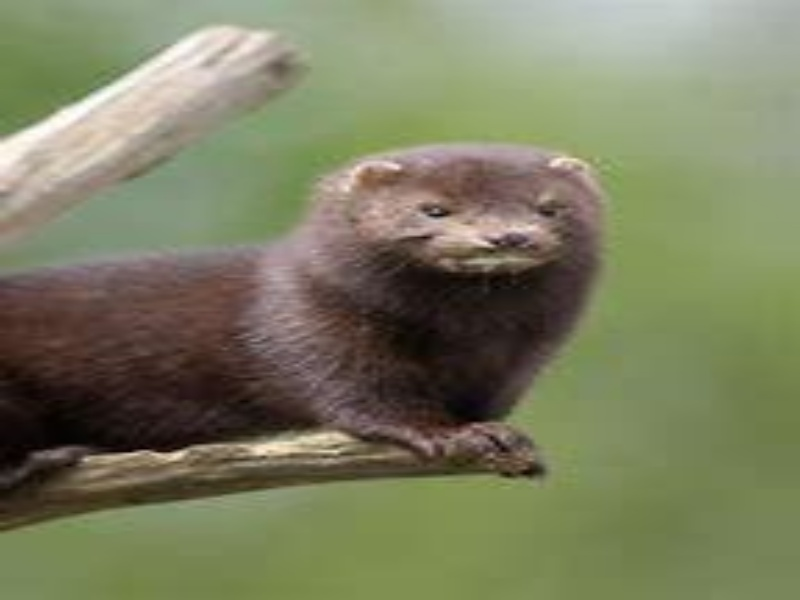minkish: (1, 137, 609, 497)
